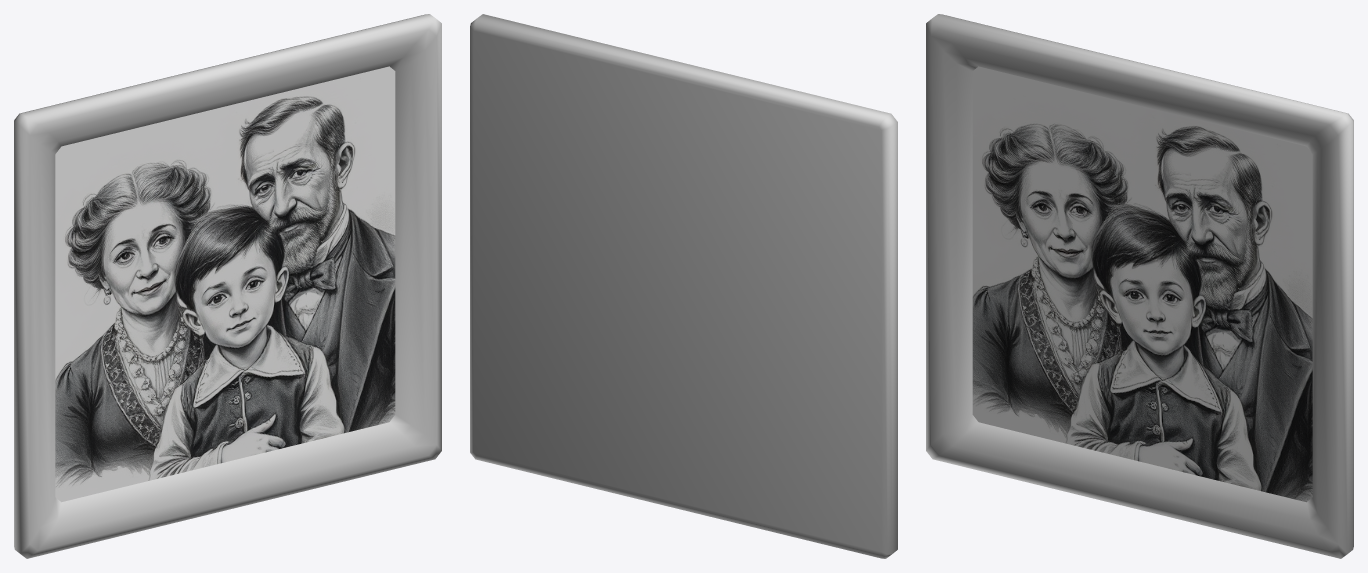
Rendered from Paint.fbx.
The picture shows the model from 3 angles, left to right: view 1: azimuth 30°, elevation 25°; view 2: azimuth 150°, elevation 25°; view 3: azimuth 330°, elevation 25°; orthographic projection.
Visible parts, largest first — view 1: Cube.002; view 2: Cube.002; view 3: Cube.002.
Boxes of the visible parts, x1,y1,x2,y2 form: Cube.002: (14, 14, 441, 558); Cube.002: (470, 14, 897, 558); Cube.002: (926, 14, 1353, 558).
Bounding box in the file's own units: 0.4191 × 0.4191 × 0.0203.
